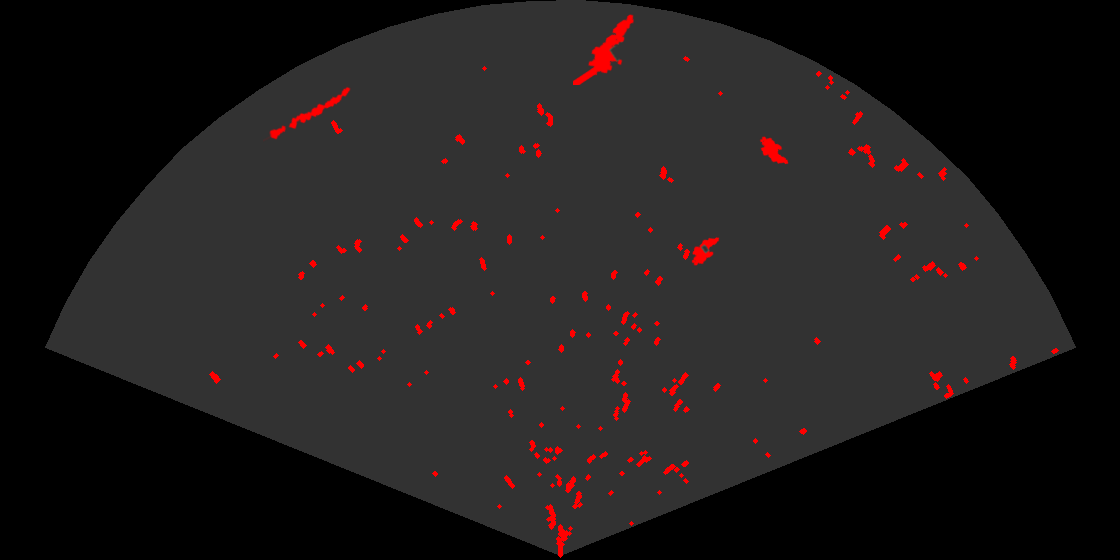AUV: (758, 135, 790, 166), (690, 236, 721, 267)
chain: (263, 85, 352, 143)
frogman: (573, 13, 636, 85)
